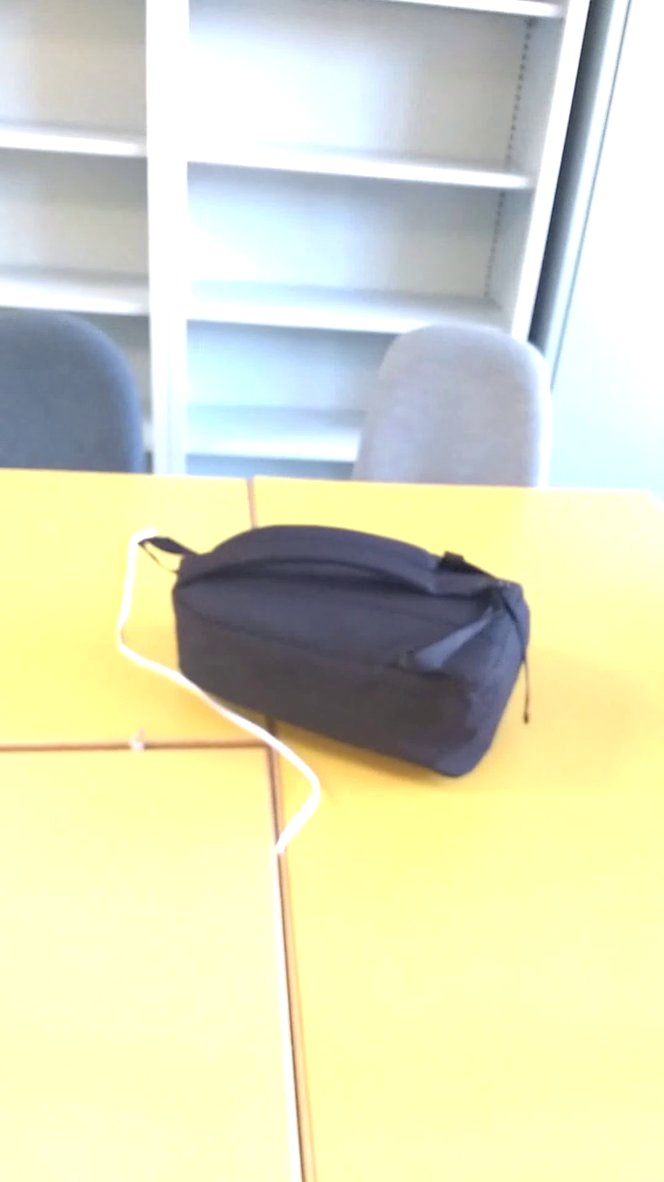bag: (133, 517, 544, 787)
chair: (342, 307, 560, 502), (1, 305, 163, 479)
